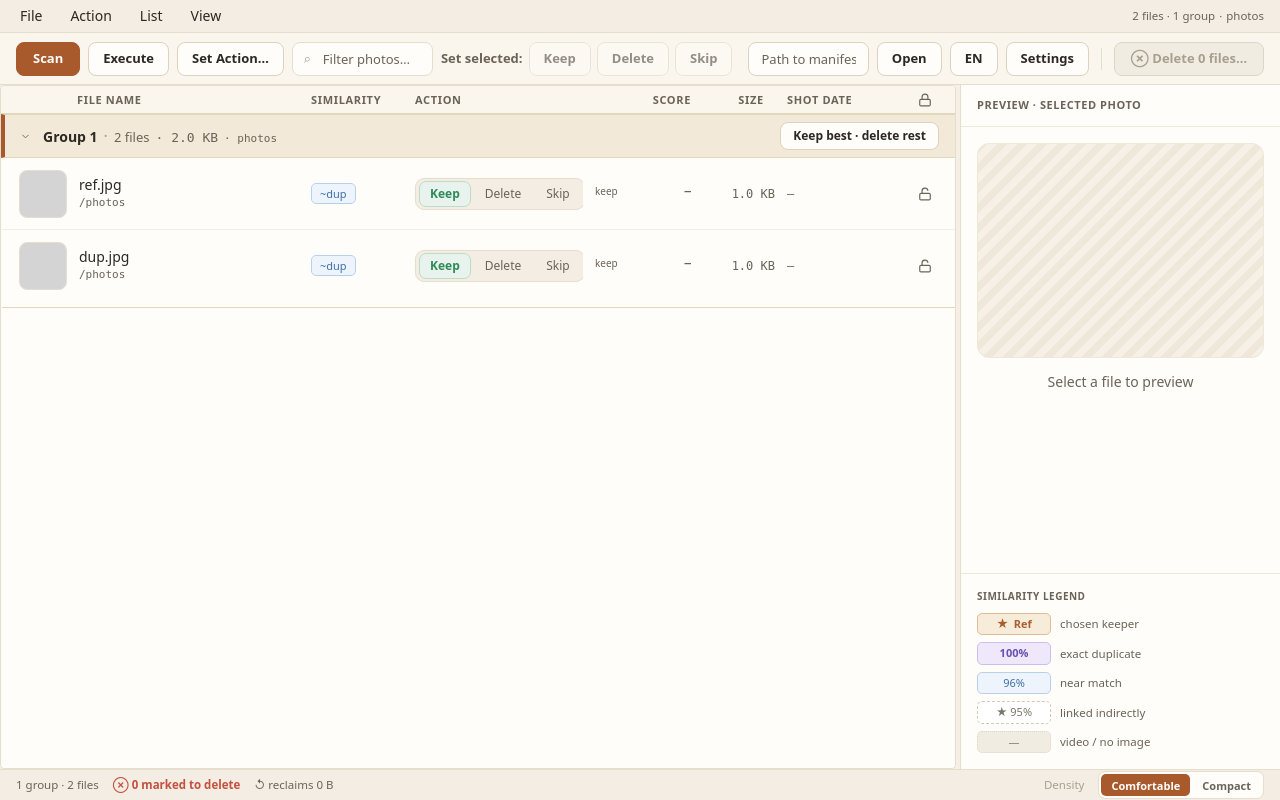
Test case: ExecuteDialog opens from toolbar › clicking Execute button opens the ExecuteDialog
Step 1. Click the button with test id "main-execute-button" → coordinates (129, 58), box [88, 42, 169, 76]
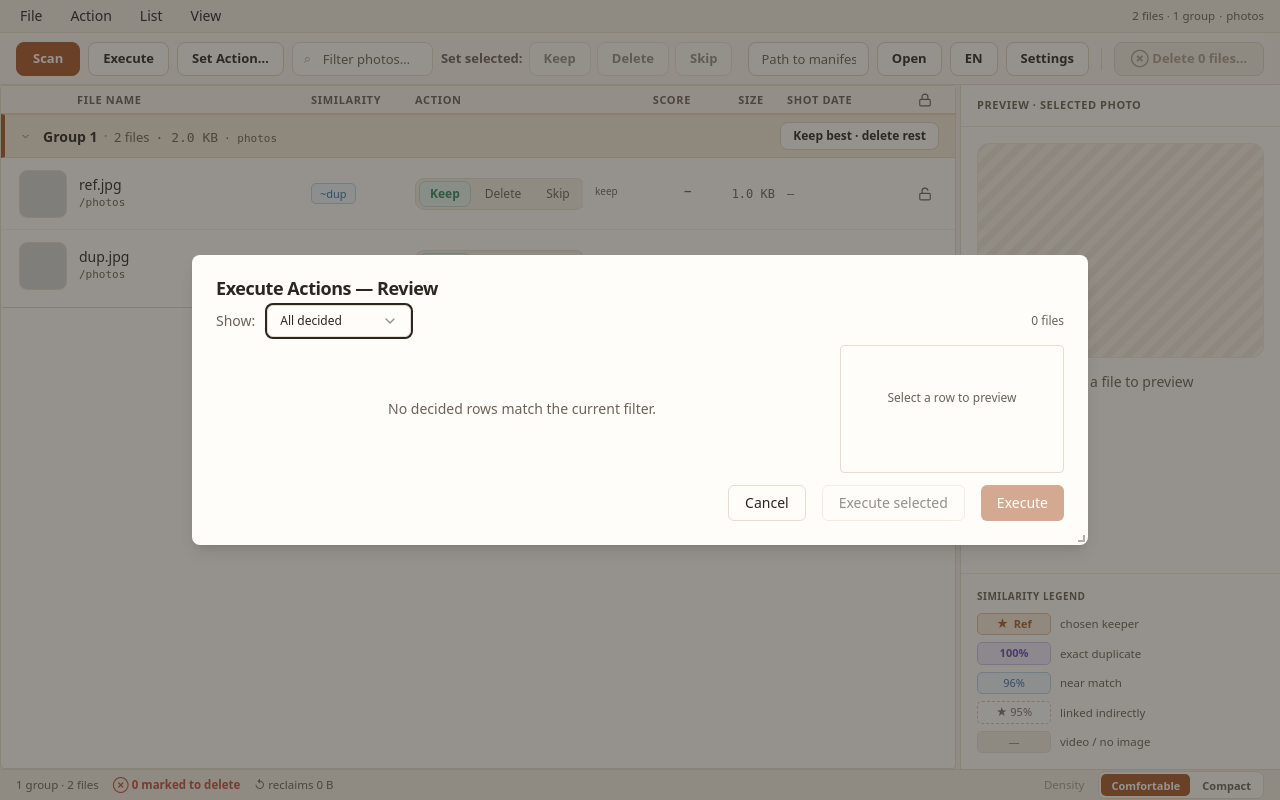
Now the dialog with test id "execute-dialog" is shown, box [192, 255, 1088, 545]
